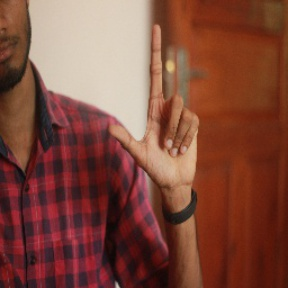L: (109, 25, 202, 182)
